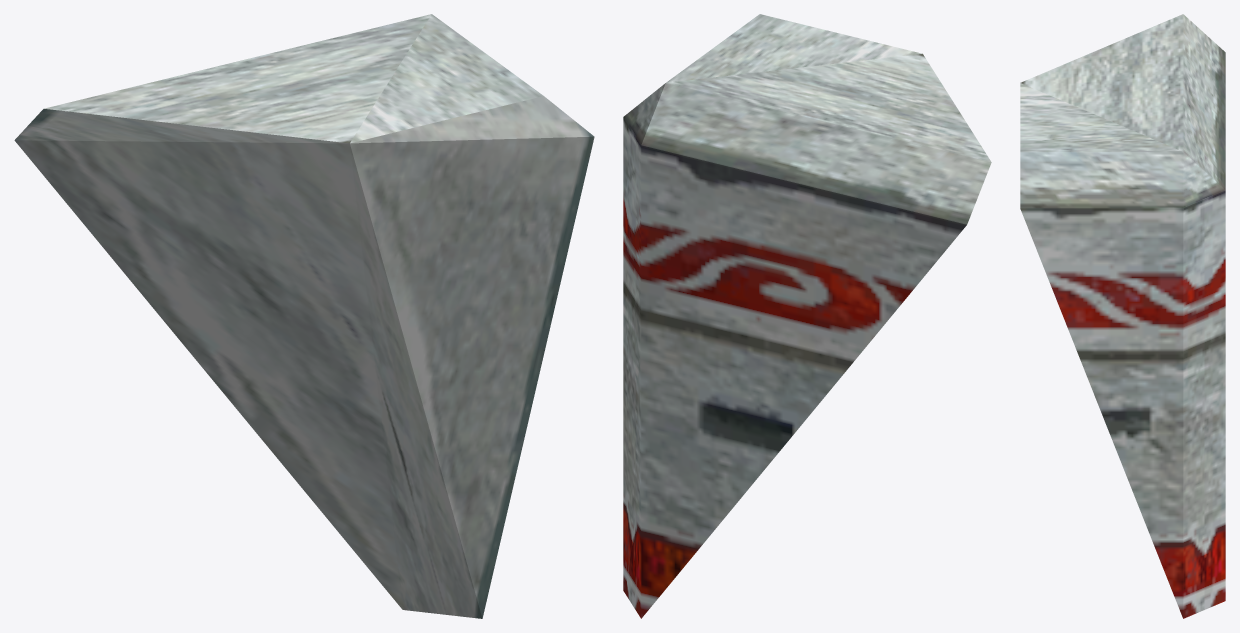
Rendered from Piece6.obj.
3 renders of one model, left to right at view 1: azimuth 30°, elevation 25°; view 2: azimuth 150°, elevation 25°; view 3: azimuth 270°, elevation 25°, orthographic. The views are drawn at different scales.
Size of the model in its own units: 17.33 by 23.3 by 9.67.
2 materials, 2 textured.
